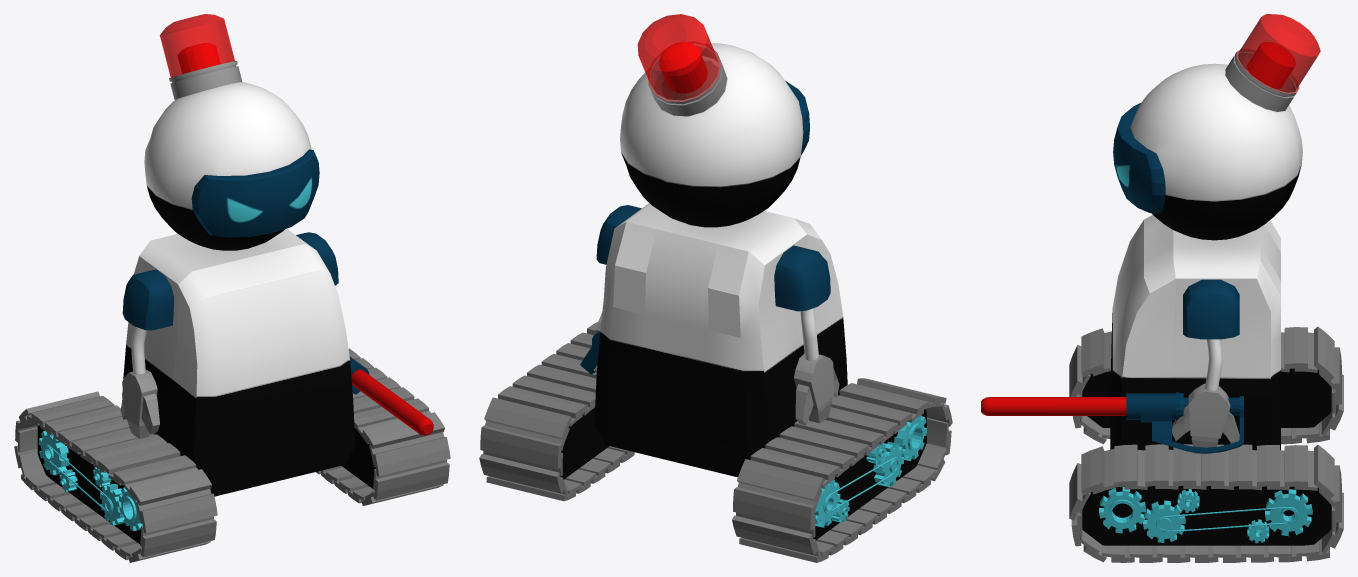
The model's file is EnemyA_Mix.fbx.
The picture shows the model from 3 angles, left to right: view 1: azimuth 30°, elevation 25°; view 2: azimuth 150°, elevation 25°; view 3: azimuth 270°, elevation 25°; orthographic projection. The views are drawn at different scales.
Visible parts, largest first — view 1: EnemyA_Mix; view 2: EnemyA_Mix; view 3: EnemyA_Mix.
Part boxes in pixels (x1,y1,x2,y2): EnemyA_Mix: [14, 14, 450, 562]; EnemyA_Mix: [479, 14, 952, 562]; EnemyA_Mix: [981, 14, 1343, 562].
Bounding box in the file's own units: 76.44 × 108 × 75.92.
2 materials, 2 textured.
